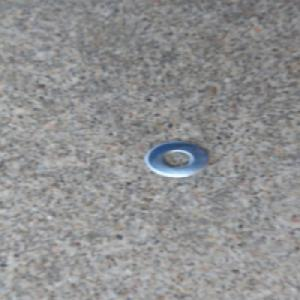Washer: (141, 139, 210, 179)
